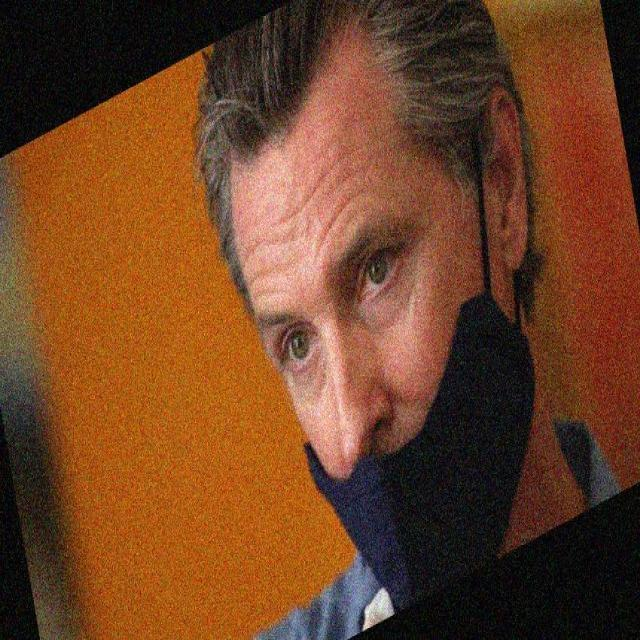hairnet: (251, 31, 515, 610)
